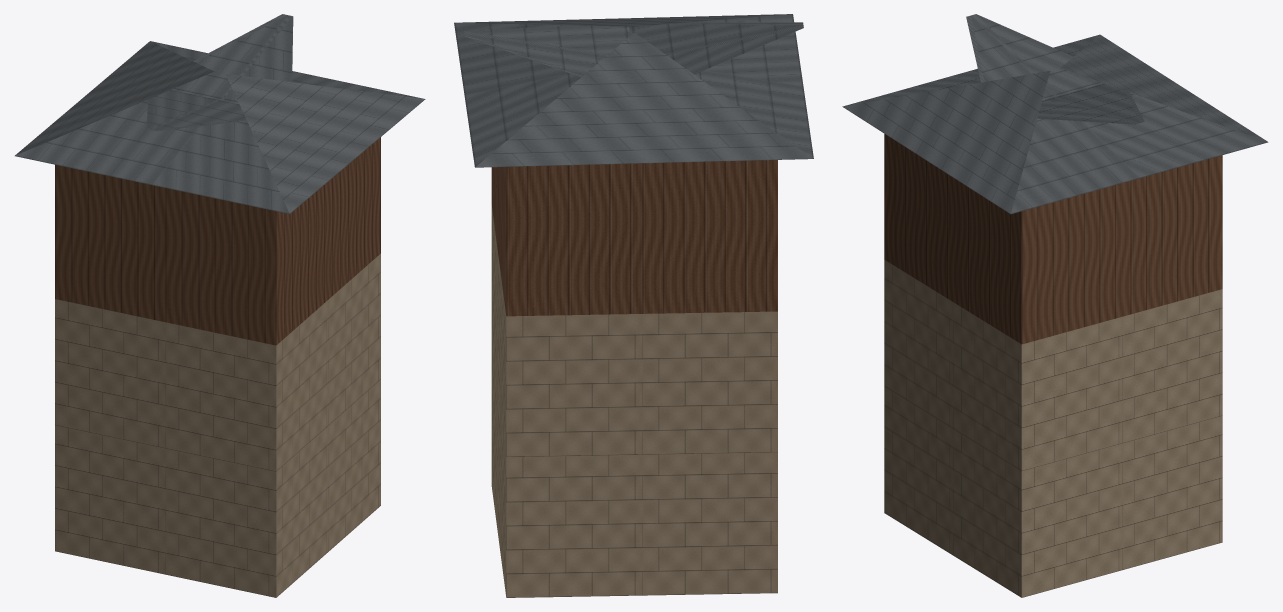
Rendered from bld_c14_23_411.gltf.
3 renders of one model, left to right at view 1: azimuth 30°, elevation 25°; view 2: azimuth 150°, elevation 25°; view 3: azimuth 270°, elevation 25°, orthographic. The views are drawn at different scales.
Visible parts, largest first — view 1: bld_c14_23_411; view 2: bld_c14_23_411; view 3: bld_c14_23_411.
Boxes of the visible parts, x1,y1,x2,y2 form: bld_c14_23_411: [15, 14, 425, 597]; bld_c14_23_411: [454, 14, 813, 597]; bld_c14_23_411: [842, 14, 1268, 597].
Bounding box in the file's own units: 6.99 × 8.3 × 7.01.
Materials: 3 (3 with a texture image).
